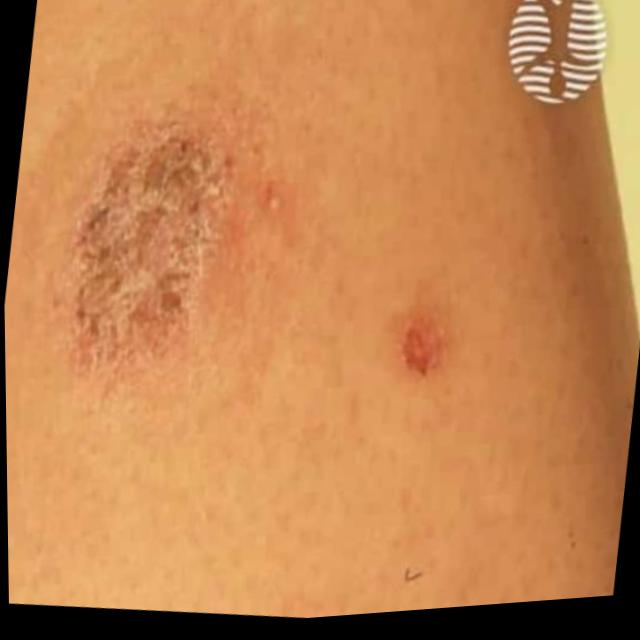Eczema: (66, 143, 225, 369), (395, 322, 448, 371)
